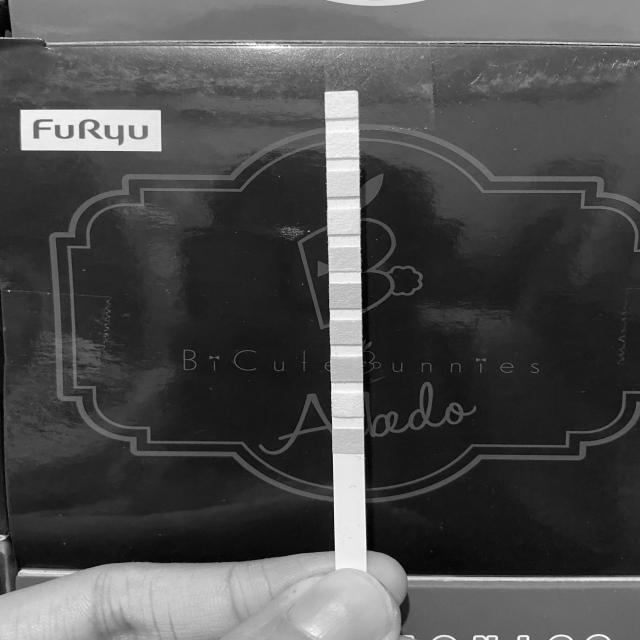Bilirubin: (332, 394, 363, 416)
Blood: (329, 283, 362, 308)
Glucose: (333, 429, 364, 453)
Ketone: (330, 356, 362, 381)
Leukocytes: (325, 92, 358, 118)
Nitrite: (326, 133, 359, 158)
Protein: (327, 210, 360, 234)
SpGravity: (330, 320, 362, 344)
Urobilinogen: (326, 172, 359, 196)
background: (0, 0, 640, 640)
pH: (329, 248, 360, 271)
strip: (325, 91, 367, 552)
